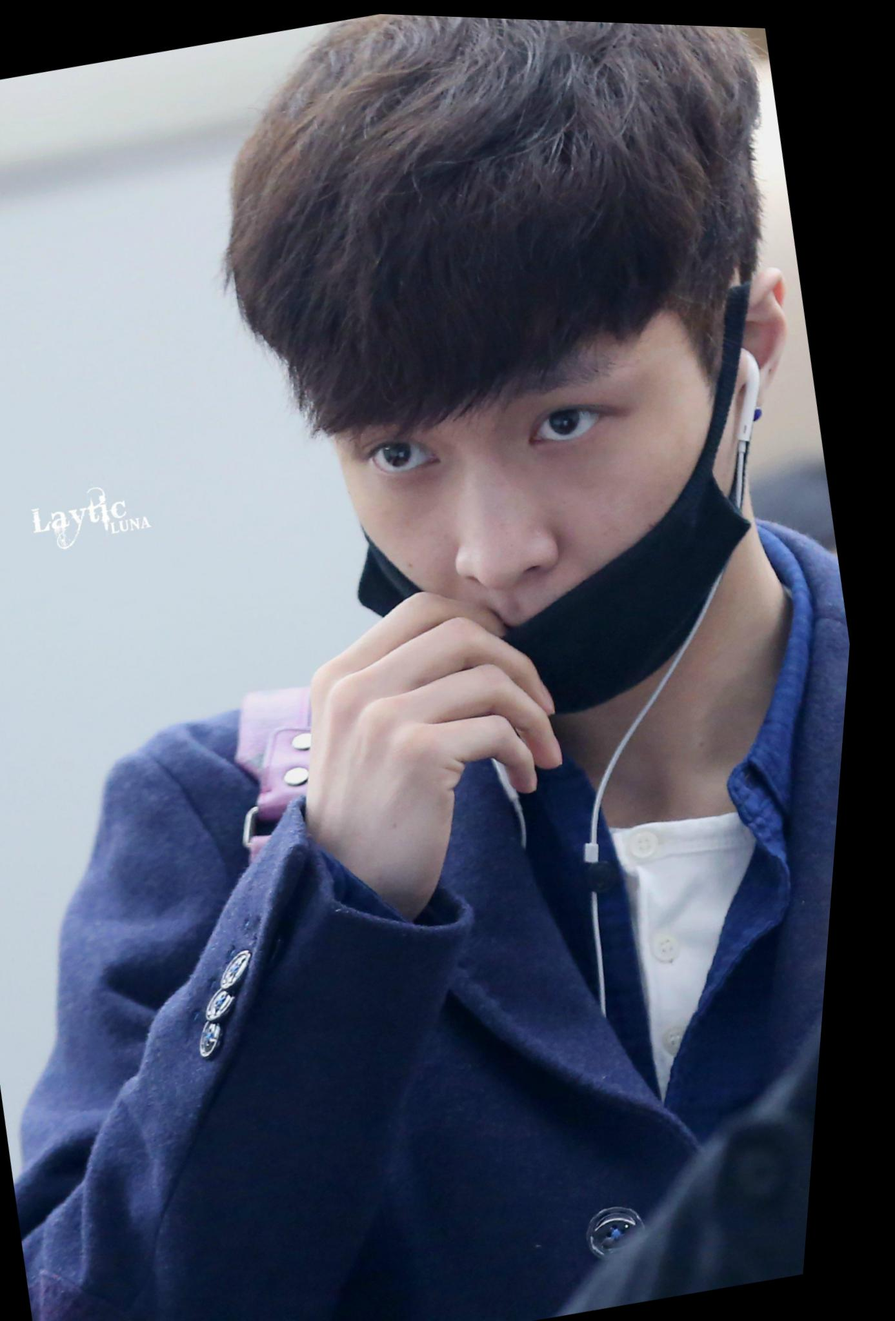WRONG: (327, 307, 787, 732)
